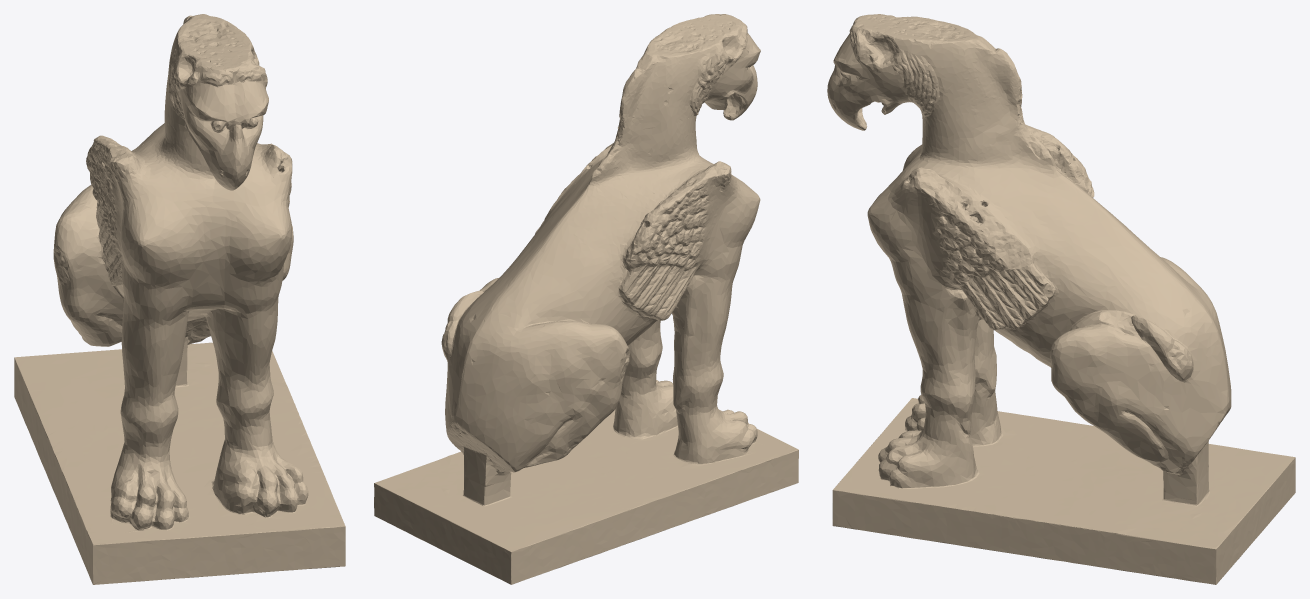
Rendered from sphinx.glb.
3 renders of one model, left to right at view 1: azimuth 30°, elevation 25°; view 2: azimuth 150°, elevation 25°; view 3: azimuth 270°, elevation 25°, orthographic. The views are drawn at different scales.
Parts seen in each view (by area): view 1: Sphinx; view 2: Sphinx; view 3: Sphinx.
Part boxes in pixels (x1,y1,x2,y2): Sphinx: (14, 14, 345, 584); Sphinx: (374, 14, 798, 584); Sphinx: (827, 14, 1295, 584).
Bounding box in the file's own units: 2.8 × 4 × 3.66.
